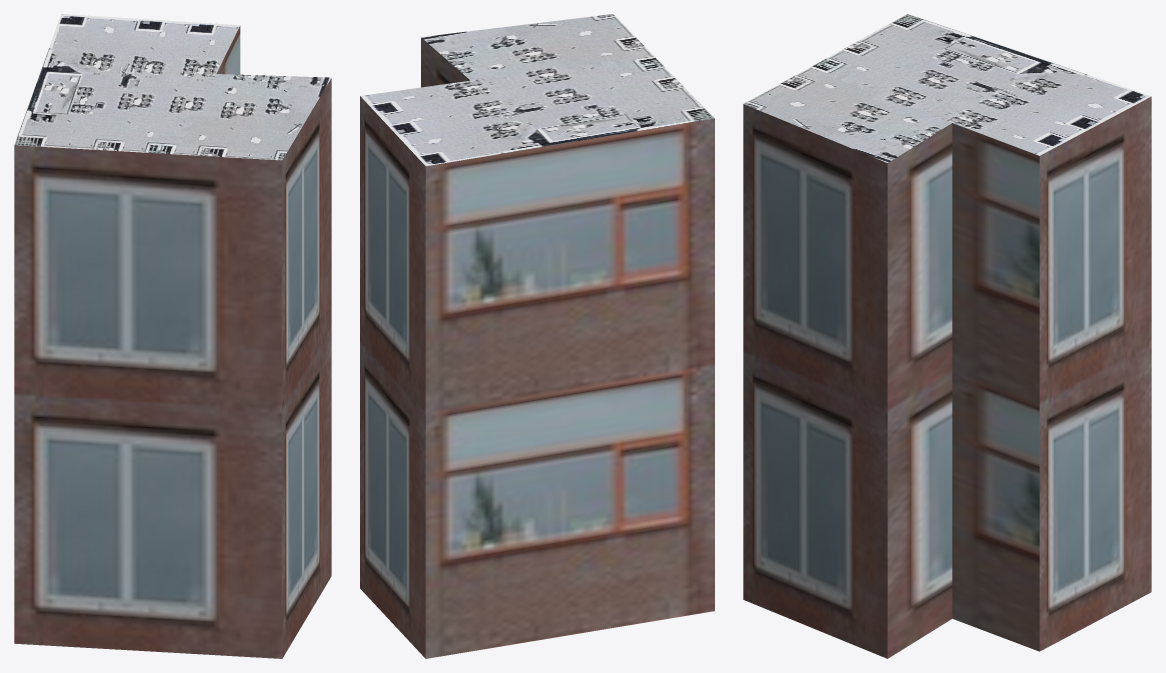
File: ResTex__1293.fbx
3 renders of one model, left to right at view 1: azimuth 30°, elevation 25°; view 2: azimuth 150°, elevation 25°; view 3: azimuth 270°, elevation 25°, orthographic.
Visible parts, largest first — view 1: CityEngineMaterial_19_m, CityEngineMaterial_15_m; view 2: CityEngineMaterial_19_m, CityEngineMaterial_15_m; view 3: CityEngineMaterial_19_m, CityEngineMaterial_15_m.
Boxes of the visible parts, <box> form: CityEngineMaterial_19_m: <box>14,26,331,658</box>; CityEngineMaterial_15_m: <box>14,14,331,160</box>; CityEngineMaterial_19_m: <box>360,37,714,658</box>; CityEngineMaterial_15_m: <box>360,14,714,166</box>; CityEngineMaterial_19_m: <box>743,96,1151,658</box>; CityEngineMaterial_15_m: <box>744,14,1151,162</box>.
Size of the model in its own units: 3.87 by 6 by 4.48.
Materials: 2 (2 with a texture image).
